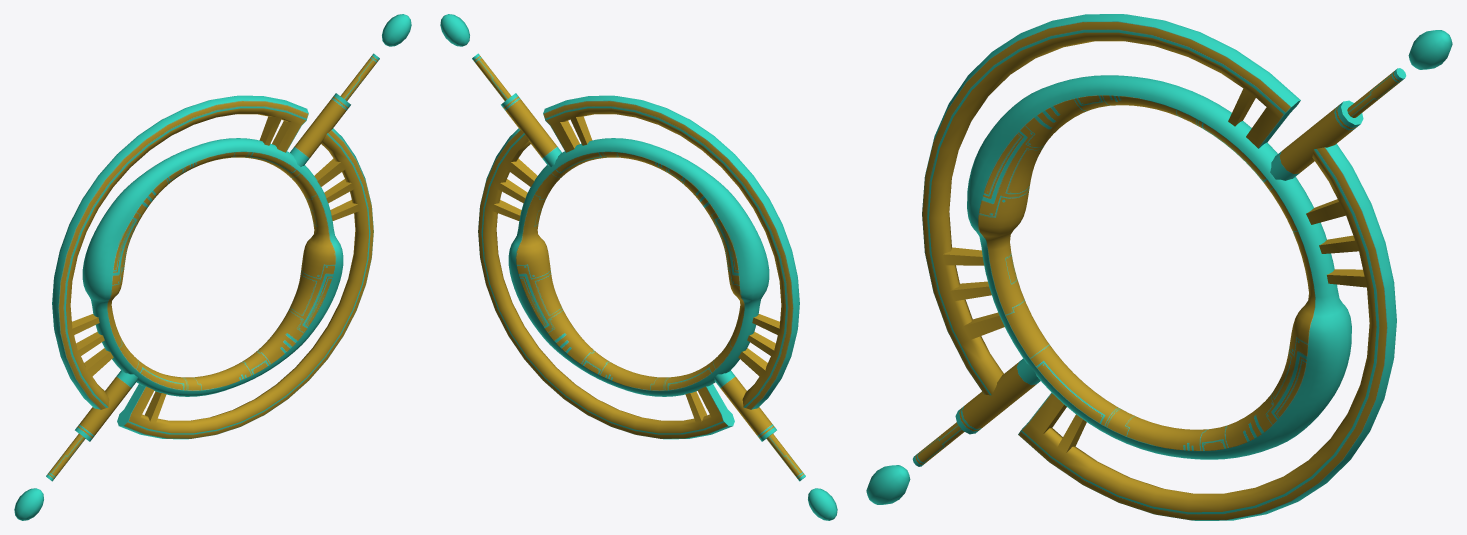
The model's file is goal01.fbx.
3 renders of one model, left to right at view 1: azimuth 30°, elevation 25°; view 2: azimuth 150°, elevation 25°; view 3: azimuth 330°, elevation 25°, orthographic. The views are drawn at different scales.
Visible parts, largest first — view 1: pTorus9; view 2: pTorus9; view 3: pTorus9.
Boxes of the visible parts, x1,y1,x2,y2 form: pTorus9: [14, 14, 411, 520]; pTorus9: [440, 14, 837, 520]; pTorus9: [866, 14, 1452, 520].
Bounding box in the file's own units: 3314 × 3314 × 317.
1 material, 1 textured.
